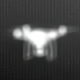plane: (8, 23, 78, 63)
